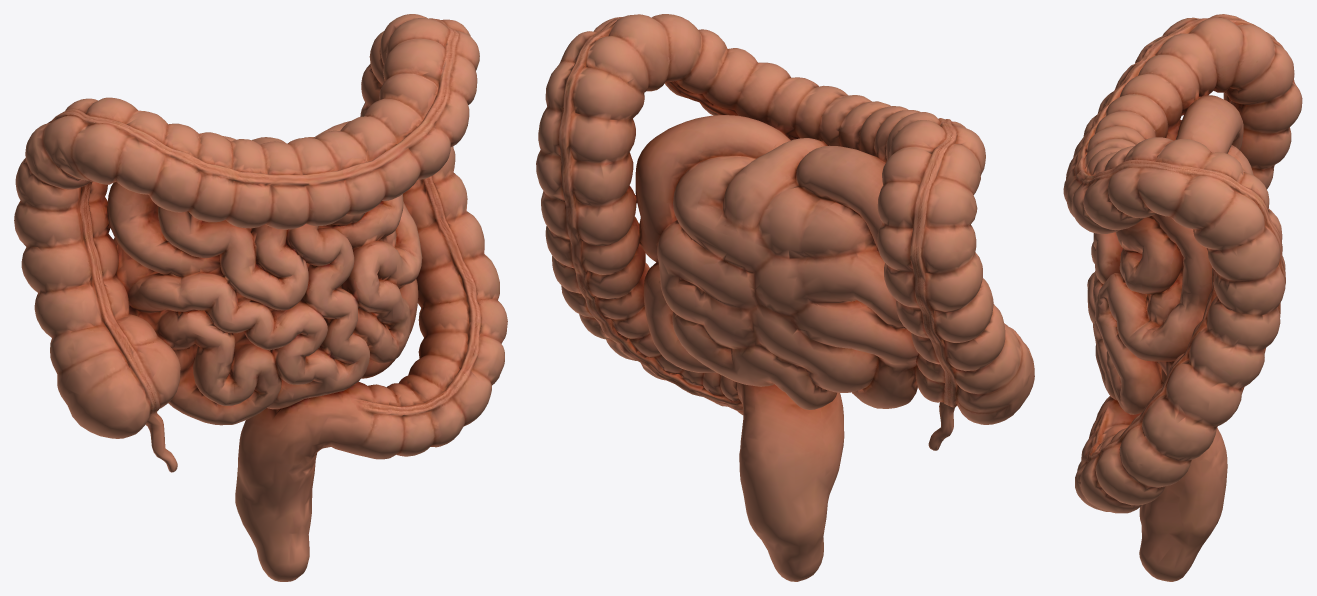
Rendered from intestine.glb.
3 renders of one model, left to right at view 1: azimuth 30°, elevation 25°; view 2: azimuth 150°, elevation 25°; view 3: azimuth 270°, elevation 25°, orthographic. The views are drawn at different scales.
Parts seen in each view (by area): view 1: tripo_node_62b379d0-ce68-4c4f-9391-eb1f11136f30; view 2: tripo_node_62b379d0-ce68-4c4f-9391-eb1f11136f30; view 3: tripo_node_62b379d0-ce68-4c4f-9391-eb1f11136f30.
Part boxes in pixels (x1=…): tripo_node_62b379d0-ce68-4c4f-9391-eb1f11136f30: x1=14, y1=14, x2=507, y2=581; tripo_node_62b379d0-ce68-4c4f-9391-eb1f11136f30: x1=536, y1=14, x2=1034, y2=581; tripo_node_62b379d0-ce68-4c4f-9391-eb1f11136f30: x1=1063, y1=14, x2=1302, y2=581.
Bounding box in the file's own units: 0.8857 × 0.9998 × 0.4266.
1 material, 1 textured.
